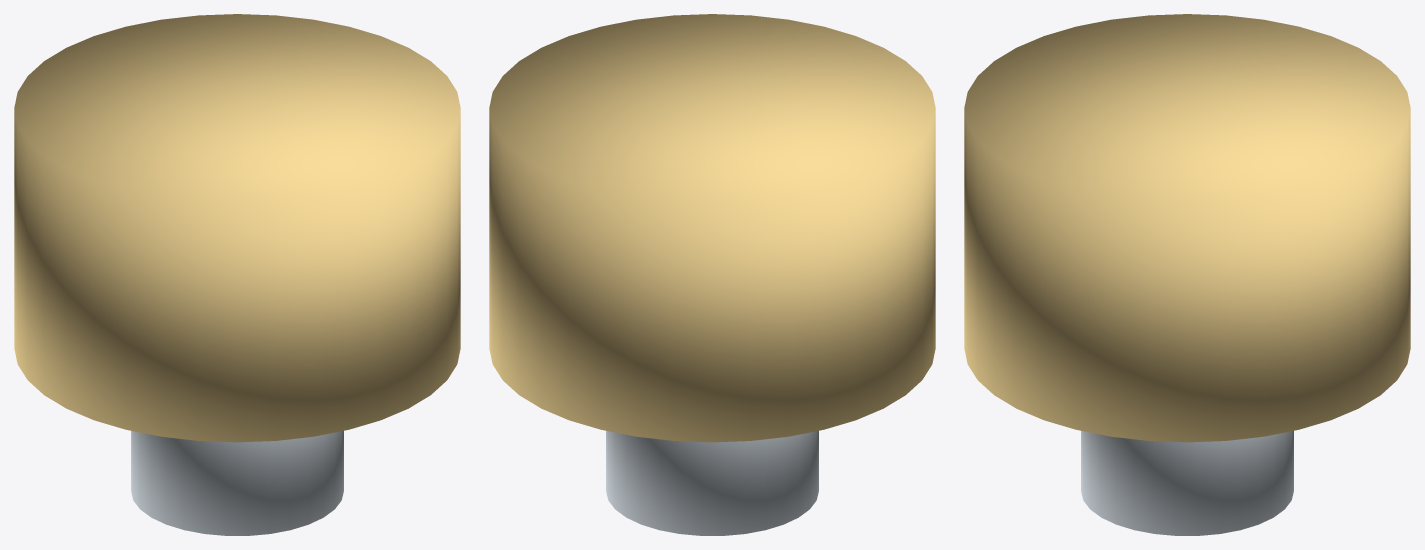
The model's file is 39_L92_PercussionActuator.glb.
The picture shows the model from 3 angles, left to right: view 1: azimuth 30°, elevation 25°; view 2: azimuth 150°, elevation 25°; view 3: azimuth 270°, elevation 25°; orthographic projection.
Visible parts, largest first — view 1: L92_PercussionActuator_Part_0000, L92_PercussionActuator_Part_0001; view 2: L92_PercussionActuator_Part_0000, L92_PercussionActuator_Part_0001; view 3: L92_PercussionActuator_Part_0000, L92_PercussionActuator_Part_0001.
Boxes of the visible parts, box(x1,y1,x2,y2) form: L92_PercussionActuator_Part_0000: box(14, 14, 460, 442); L92_PercussionActuator_Part_0001: box(131, 431, 343, 535); L92_PercussionActuator_Part_0000: box(489, 14, 935, 442); L92_PercussionActuator_Part_0001: box(606, 431, 818, 535); L92_PercussionActuator_Part_0000: box(964, 14, 1410, 442); L92_PercussionActuator_Part_0001: box(1081, 431, 1293, 535).
Bounding box in the file's own units: 1.3 × 1.23 × 1.3.
